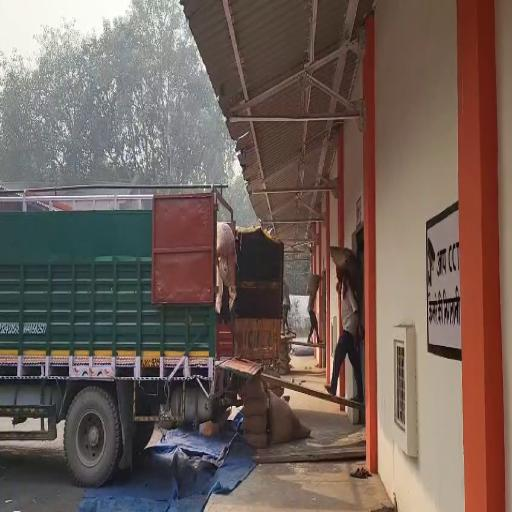bag: (327, 242, 363, 290), (215, 220, 243, 274)
